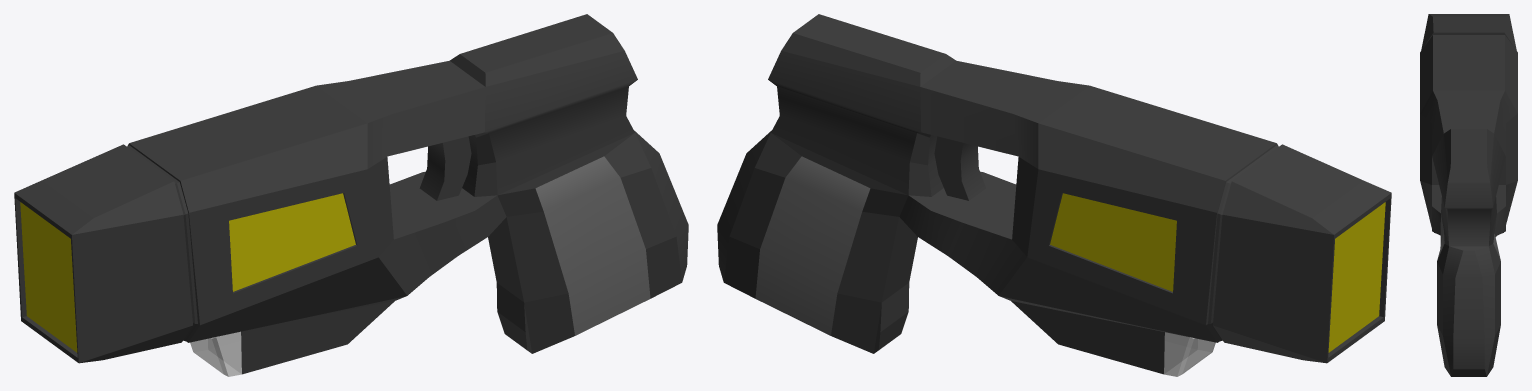
File: Taser_gun.fbx
3 renders of one model, left to right at view 1: azimuth 30°, elevation 25°; view 2: azimuth 150°, elevation 25°; view 3: azimuth 270°, elevation 25°, orthographic. The views are drawn at different scales.
Parts seen in each view (by area): view 1: Taser; view 2: Taser; view 3: Taser.
Part boxes in pixels (x1=…): Taser: x1=14, y1=14, x2=688, y2=376; Taser: x1=717, y1=14, x2=1391, y2=376; Taser: x1=1420, y1=14, x2=1517, y2=376.
Size of the model in its own units: 72.6 by 33.33 by 13.82.
